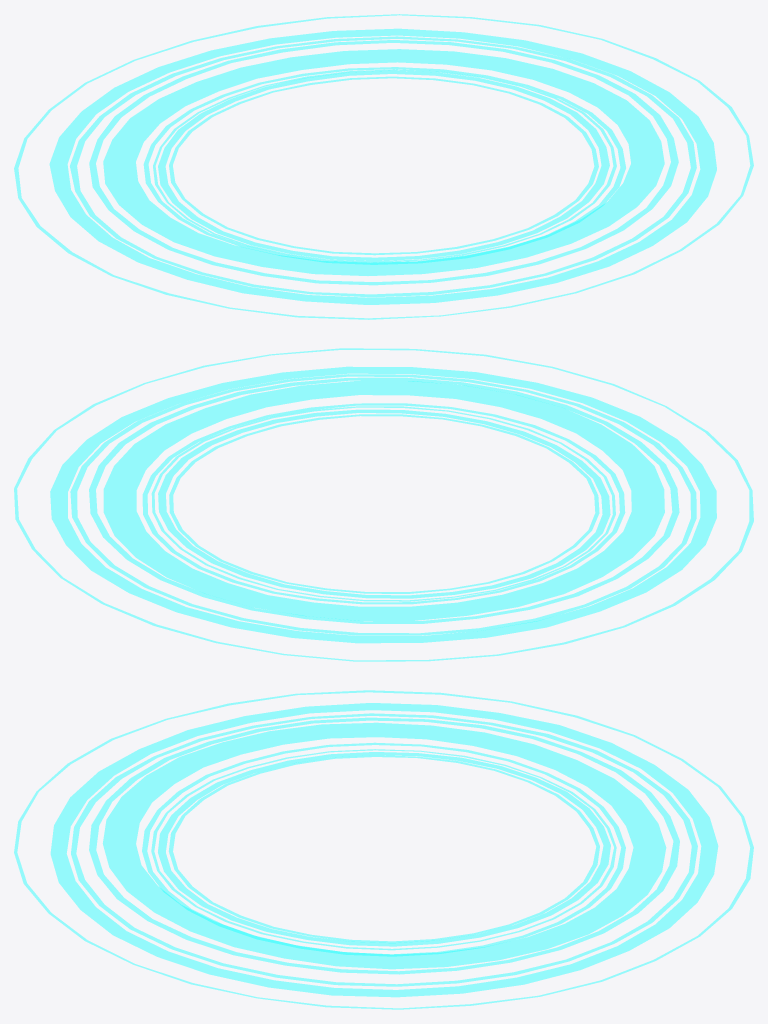
Rendered from p_mesh_controlstation_hologram_ring01.fbx.
The picture shows the model from 3 angles, top to bottom: view 1: azimuth 30°, elevation 25°; view 2: azimuth 150°, elevation 25°; view 3: azimuth 270°, elevation 25°; orthographic projection. The views are drawn at different scales.
Visible parts, largest first — view 1: hologram_rings01; view 2: hologram_rings01; view 3: hologram_rings01.
Part boxes in pixels (x1,y1,x2,y2): hologram_rings01: (14,14,753,319); hologram_rings01: (14,348,753,661); hologram_rings01: (14,690,753,1009).
Size of the model in its own units: 8.36 by 0.1515 by 8.1.
